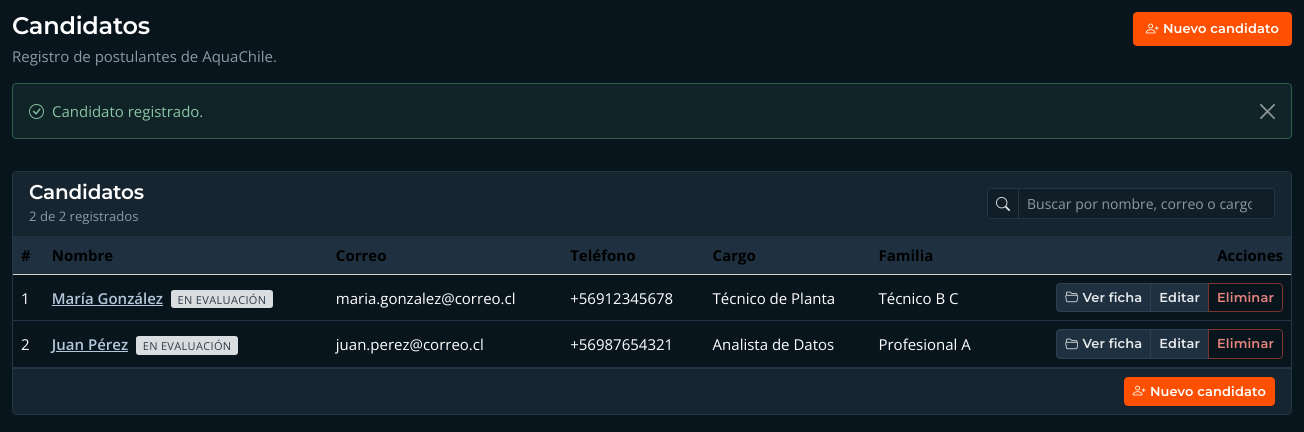
Test case: Candidatos › permite cerrar el mensaje de éxito
The width and height of the screenshot is (1304, 432).
Click the button named "cerrar mensaje": click(1268, 111) [1244,84,1291,139]
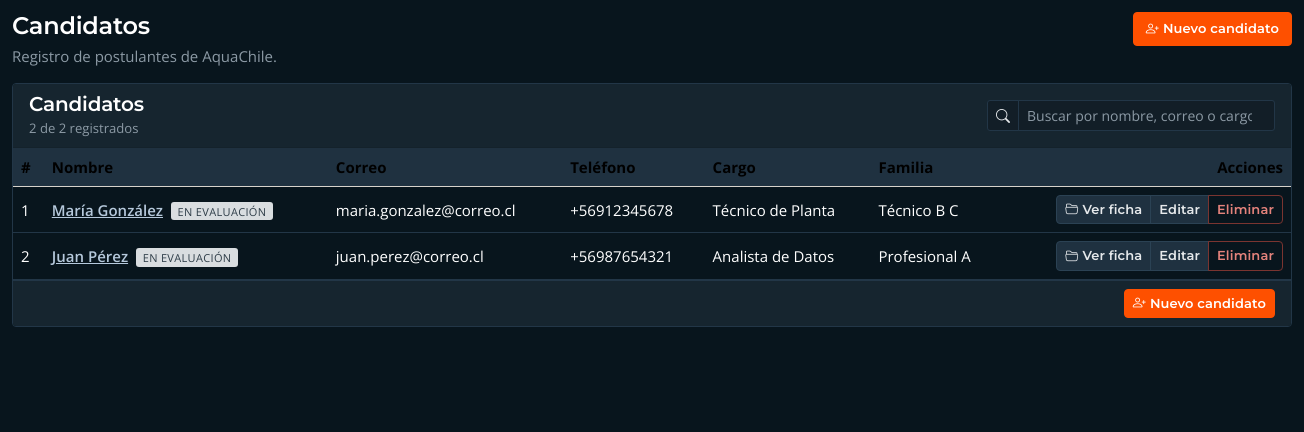
Check: the text "Candidato registrado." is gone
